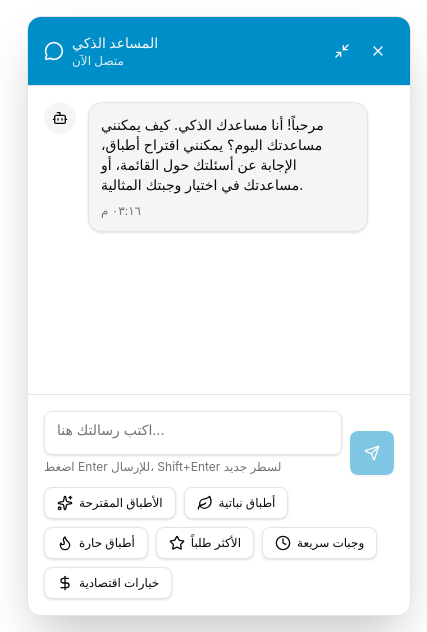
it: ChatWidget Conversation Context › Message Display › should show message count when minimized
Expected: the text "مرحباً" is shown, [101, 116, 328, 193]
# Send a message
Step 1. Type "رسالة" into the text box with placeholder "اكتب رسالتك هنا..." → (193, 433), box [44, 411, 342, 455]
Then press Enter
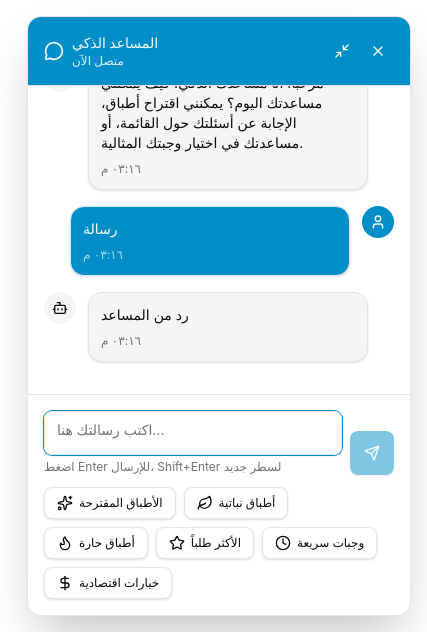
Expected: the text "رسالة" is shown, [83, 220, 118, 237]
Step 2. Click the 1st button → click(342, 51), box [326, 35, 358, 67]
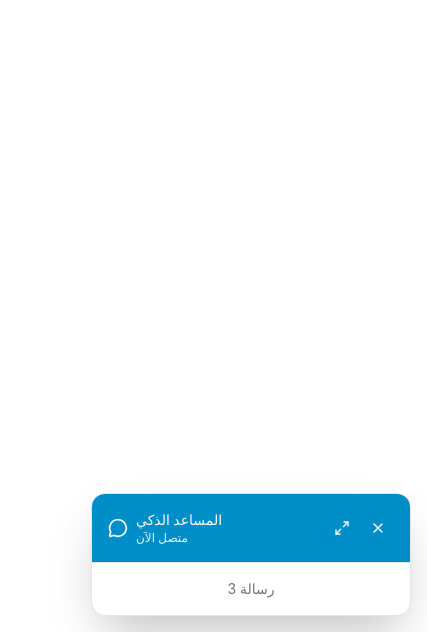
Expected: the text "3 رسالة" is shown, [227, 580, 274, 597]
